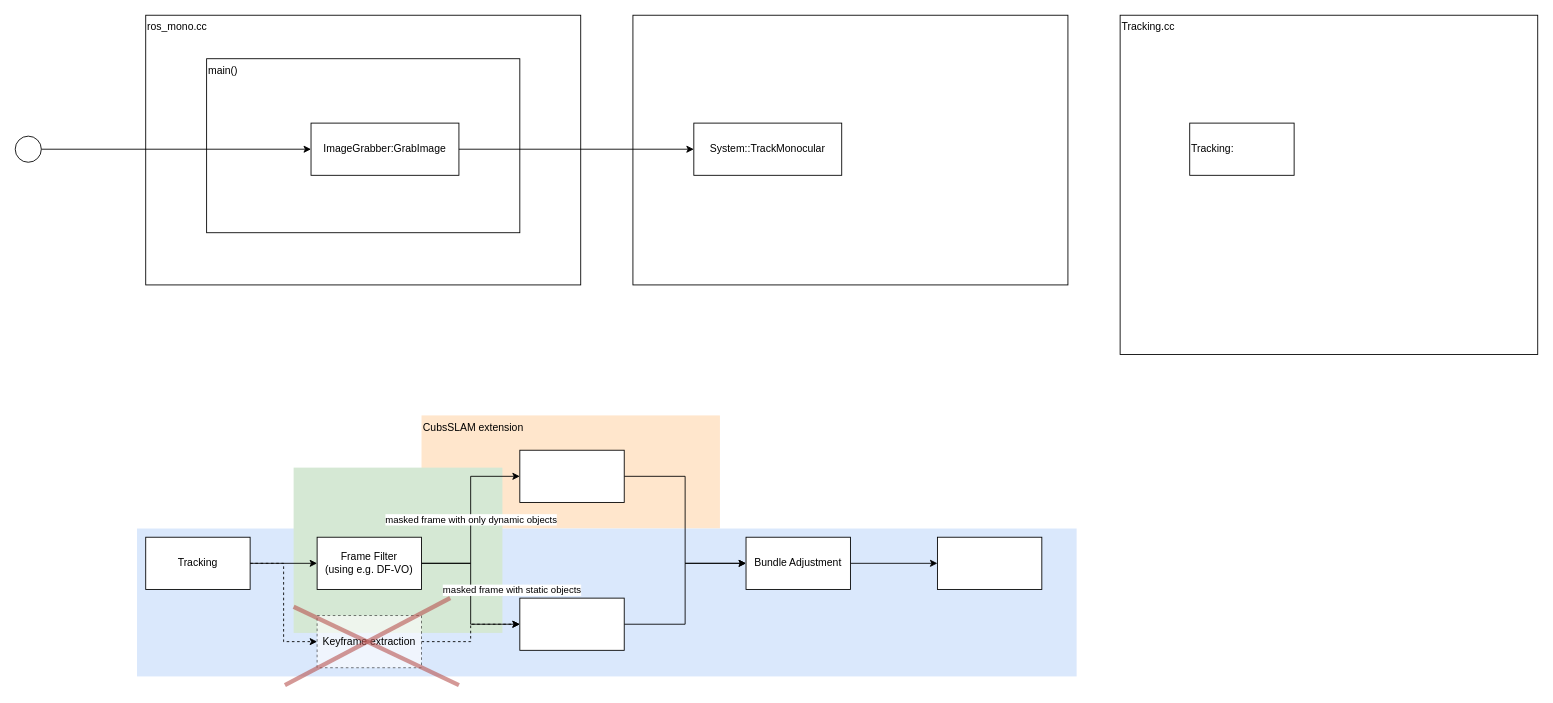
This 1553x703 diagram has some shape labels left out. The box of each missing label's shape, as (x1, y1, x2, y2) in pixels:
Local Mapping: (519, 597, 624, 650)
Loop Closure: (937, 536, 1042, 589)
My contribution: (293, 467, 502, 632)
Object Detection: (519, 449, 624, 502)
ORB SLAM: (137, 528, 1076, 676)
System.cc: (632, 14, 1068, 285)
